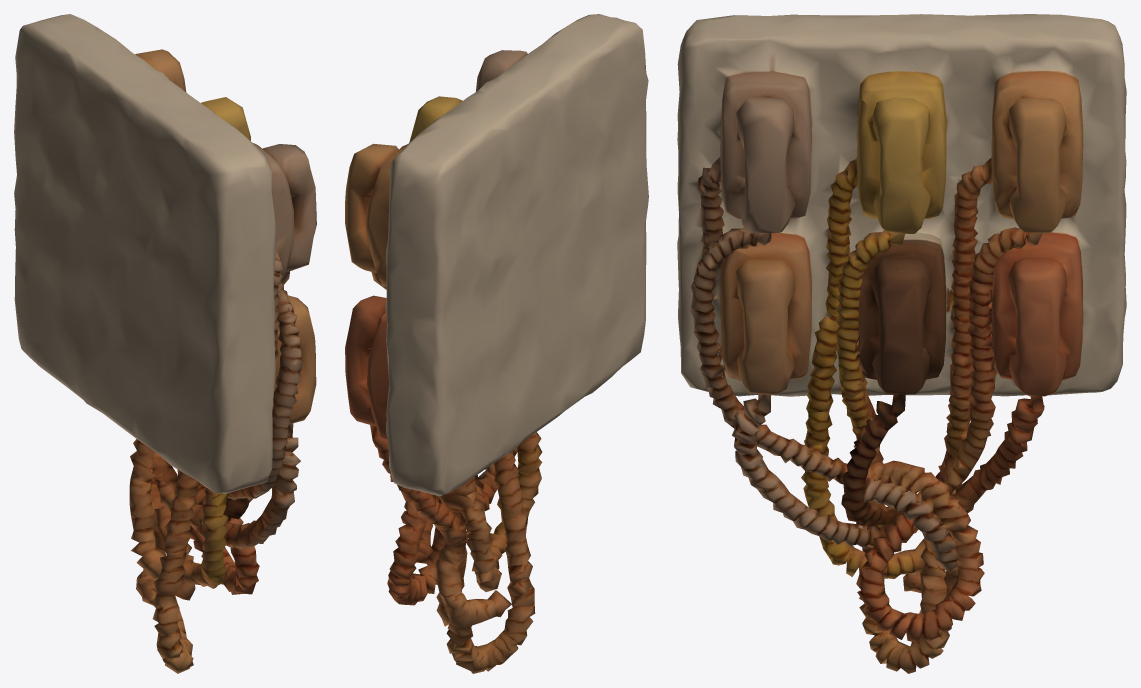
File: phone-wall.glb
3 renders of one model, left to right at view 1: azimuth 30°, elevation 25°; view 2: azimuth 150°, elevation 25°; view 3: azimuth 270°, elevation 25°, orthographic. The views are drawn at different scales.
Parts seen in each view (by area): view 1: tripo_node_6e098fb9-ea52-44b8-a2ae-1372880420c5; view 2: tripo_node_6e098fb9-ea52-44b8-a2ae-1372880420c5; view 3: tripo_node_6e098fb9-ea52-44b8-a2ae-1372880420c5.
Part boxes in pixels (box(x1,y1,x2,y2)): tripo_node_6e098fb9-ea52-44b8-a2ae-1372880420c5: box(14, 14, 316, 673); tripo_node_6e098fb9-ea52-44b8-a2ae-1372880420c5: box(345, 14, 648, 673); tripo_node_6e098fb9-ea52-44b8-a2ae-1372880420c5: box(677, 14, 1126, 673).
Bounding box in the file's own units: 0.2465 × 1 × 0.6448.
Materials: 1 (1 with a texture image).
